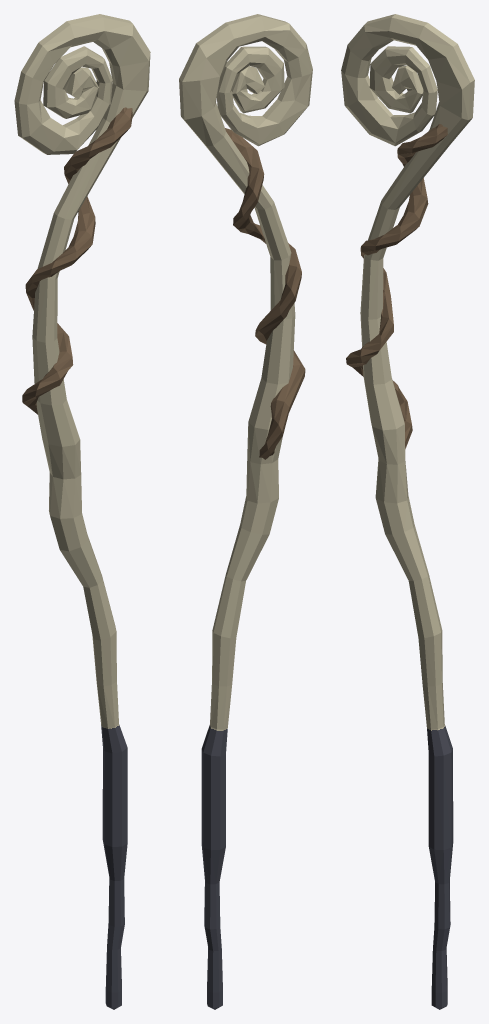
File: cane-8.glb
The picture shows the model from 3 angles, left to right: view 1: azimuth 30°, elevation 25°; view 2: azimuth 210°, elevation 25°; view 3: azimuth 330°, elevation 25°; orthographic projection.
Parts seen in each view (by area): view 1: cane_8; view 2: cane_8; view 3: cane_8.
Part boxes in pixels (x1,y1,x2,y2): cane_8: (14,14,150,1009); cane_8: (179,14,312,1009); cane_8: (341,14,474,1009).
Size of the model in its own units: 25.98 by 187 by 10.64.
Materials: 1 (1 with a texture image).
